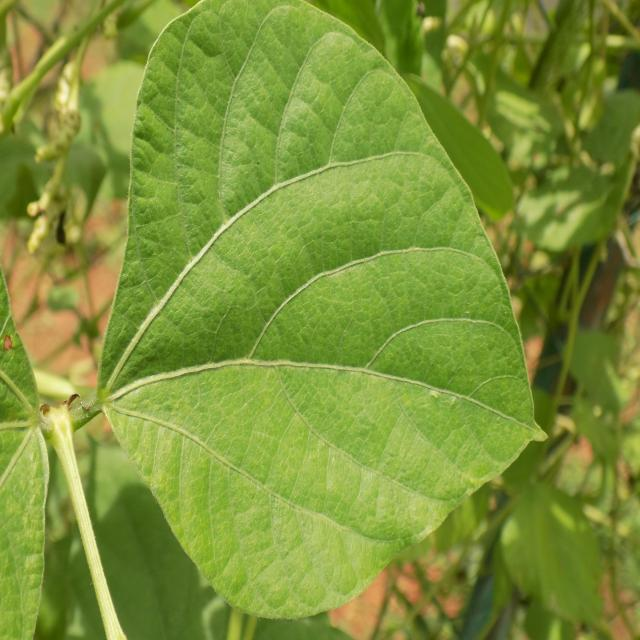Dolicos bean_healthy: (89, 0, 542, 624)
